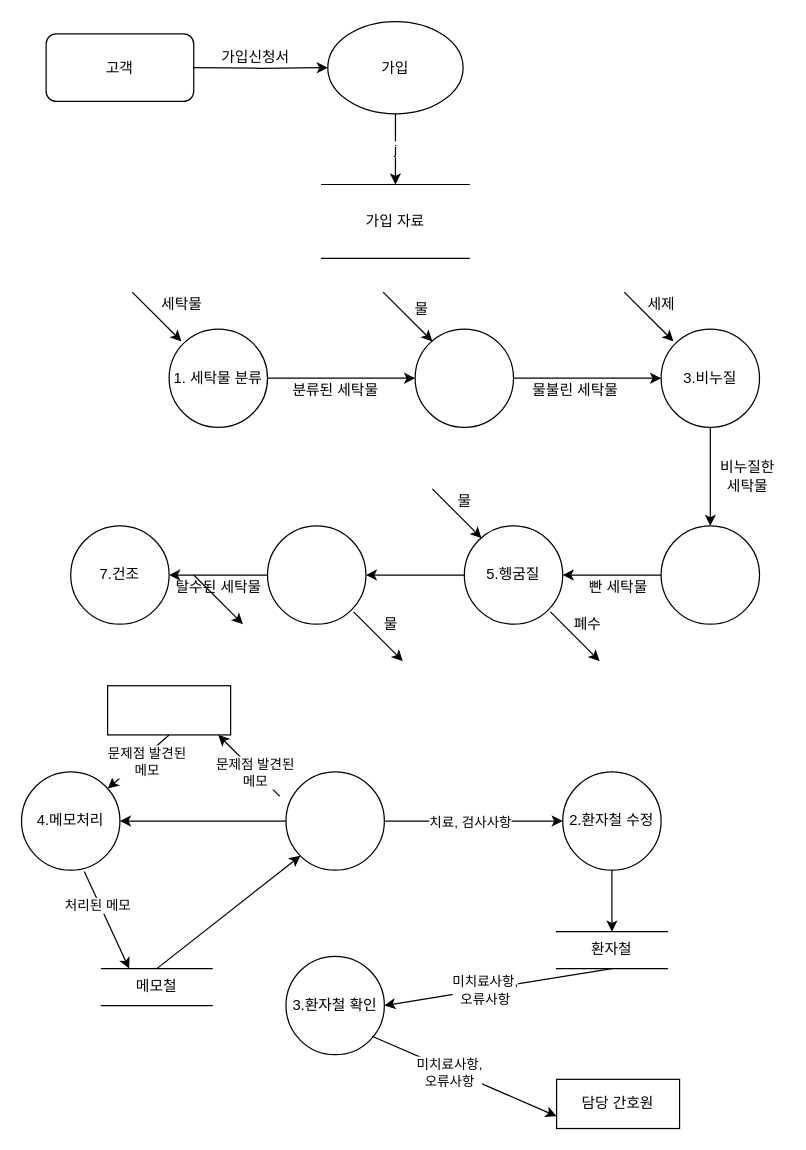
Image size: 806x1150. Some labels were removed from this diagram. The shapes that lost their labels are listed below. From the top down, each one's centre as x and y in pixels, then its label:
the point at 464,377: 2. 물불림
the point at 316,574: 6.탈수
the point at 710,574: 4.비벼빨기
the point at 168,709: 의사
the point at 334,820: 1.메모철 확인
